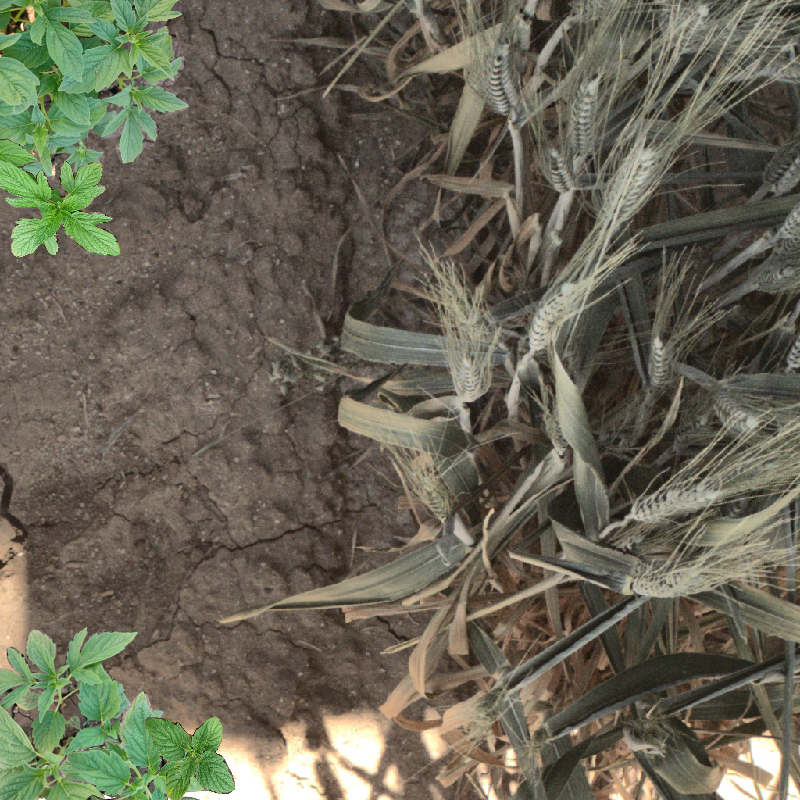spikelet: (618, 461, 754, 528), (594, 141, 660, 229), (522, 276, 588, 355), (611, 557, 718, 602), (703, 383, 767, 438), (477, 40, 521, 118), (565, 75, 604, 157), (410, 464, 456, 522), (465, 687, 511, 742), (538, 142, 576, 195), (643, 332, 674, 392), (772, 186, 800, 245), (451, 353, 481, 401), (770, 151, 800, 195)
weed: (1, 1, 188, 162), (1, 626, 171, 800), (1, 127, 125, 265), (37, 682, 174, 800), (145, 715, 235, 800)
